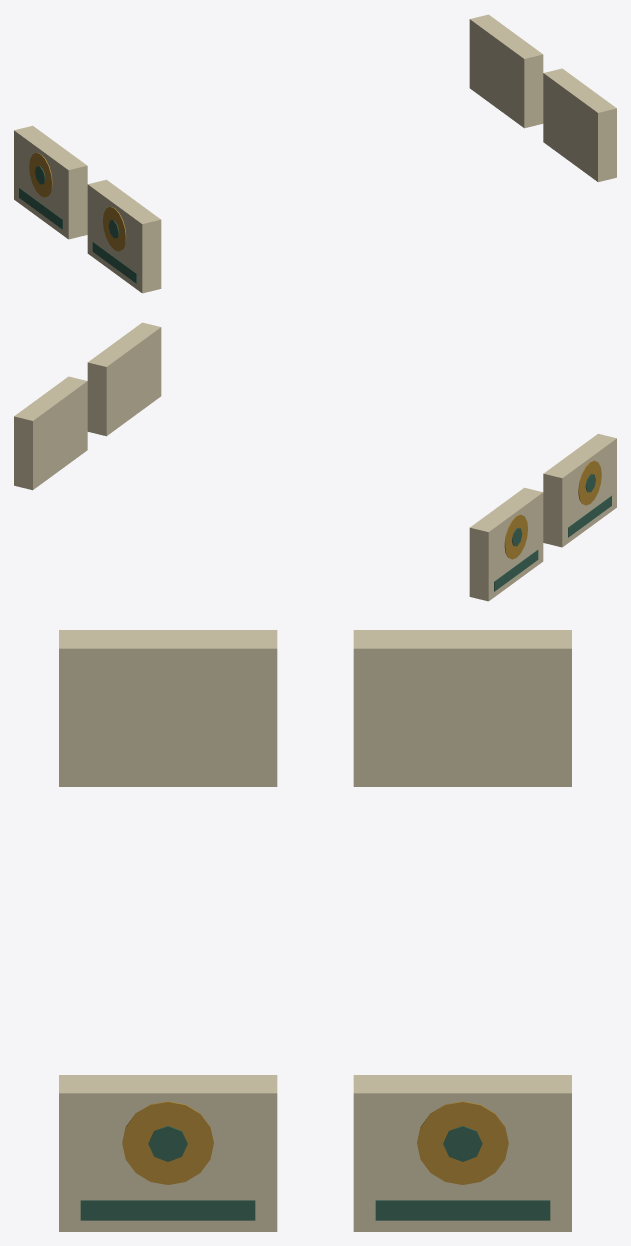
File: hangar2_chargers.obj
3 renders of one model, top to bottom at view 1: azimuth 30°, elevation 25°; view 2: azimuth 150°, elevation 25°; view 3: azimuth 270°, elevation 25°, orthographic. The views are drawn at different scales.
Visible parts, largest first — view 1: hangar2_chargers; view 2: hangar2_chargers; view 3: hangar2_chargers.
Part boxes in pixels (<box>): hangar2_chargers: <box>14,14,616,293</box>; hangar2_chargers: <box>14,322,616,601</box>; hangar2_chargers: <box>59,630,571,1231</box>.
Size of the model in its own units: 10.1 by 1.4 by 4.7.
